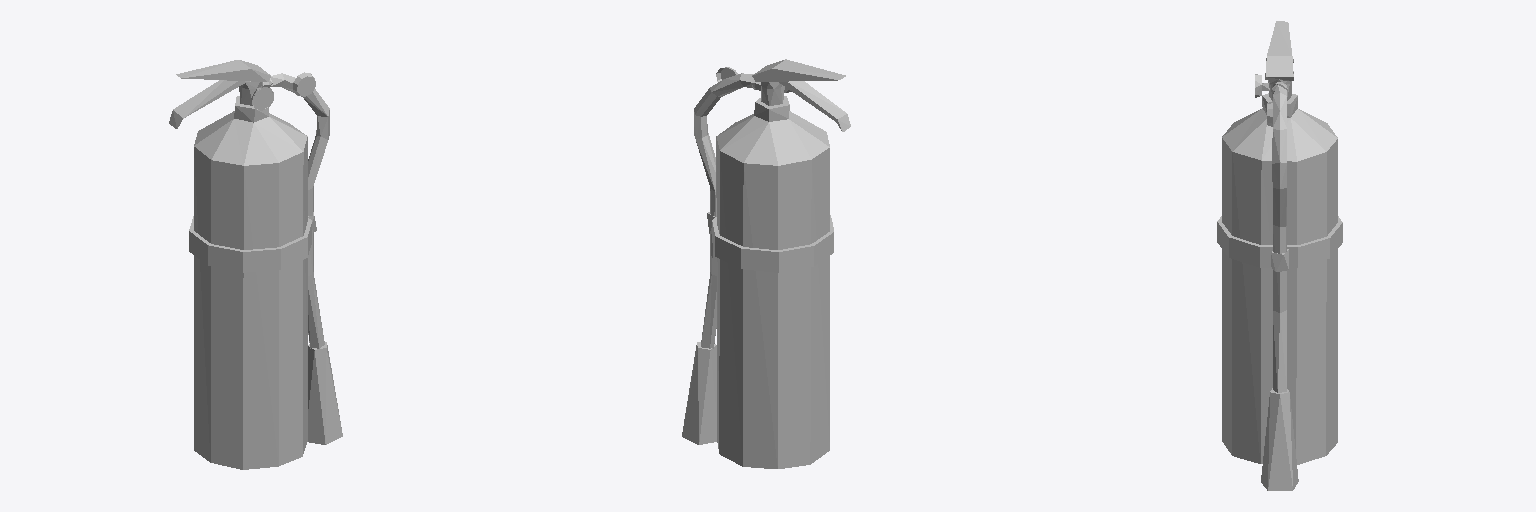
The model's file is extintor_LoD_2.obj.
3 renders of one model, left to right at view 1: azimuth 30°, elevation 25°; view 2: azimuth 150°, elevation 25°; view 3: azimuth 270°, elevation 25°, orthographic.
Parts seen in each view (by area): view 1: FireExtinguisher_Mesh.002; view 2: FireExtinguisher_Mesh.002; view 3: FireExtinguisher_Mesh.002.
Part boxes in pixels (left/top/right/bottom): FireExtinguisher_Mesh.002: left=169, top=60, right=342, bottom=469; FireExtinguisher_Mesh.002: left=682, top=59, right=850, bottom=468; FireExtinguisher_Mesh.002: left=1217, top=21, right=1342, bottom=490.
Bounding box in the file's own units: 0.4669 × 1.09 × 0.3133.